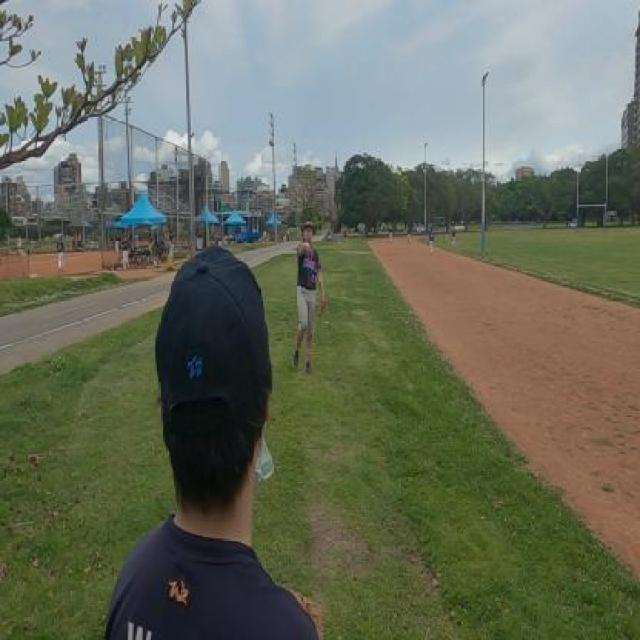baseball: (268, 138, 274, 147)
